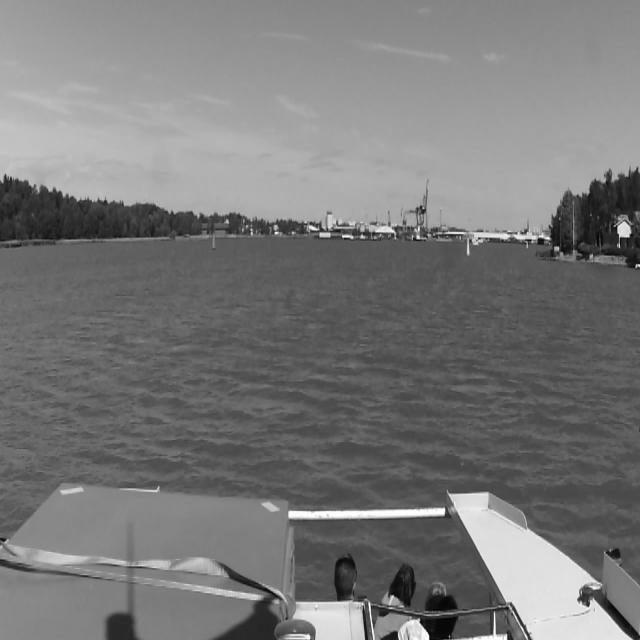buoy: (466, 238, 469, 255), (212, 234, 215, 249)
